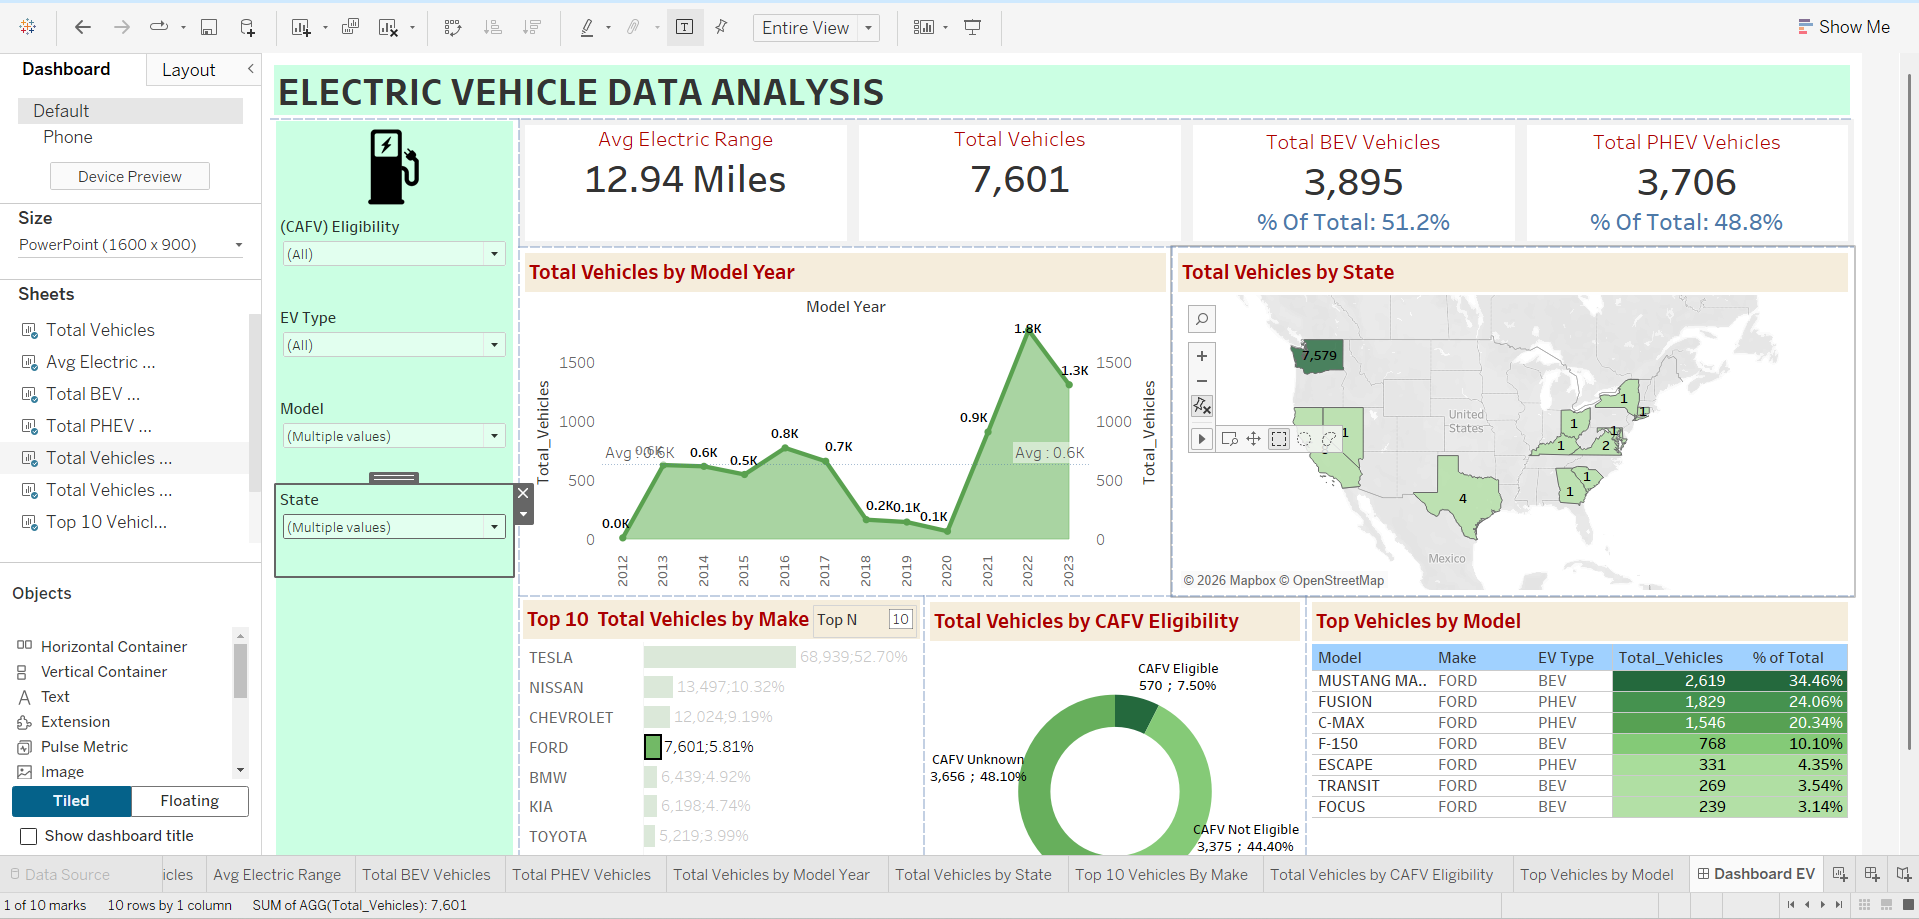

This screenshot's page, from the dashboard's own definition file:
{"tool":"tableau","page":{"name":"Dashboard EV","canvas":[1600,900],"ordinal":0},"visuals":[{"type":"title","box":[8,8,1584,58]},{"type":"worksheet","title":"Avg Electric Range","mark":"Automatic","box":[257,66,334,128]},{"type":"worksheet","title":"Total Vehicles","mark":"Automatic","box":[591,66,334,128]},{"type":"worksheet","title":"Total BEV Vehicles","mark":"Automatic","box":[925,66,334,128]},{"type":"worksheet","title":"Total PHEV Vehicles","mark":"Automatic","box":[1259,66,333,128]},{"type":"image","param":"Image/1287583-200.png","box":[14,68,237,91]},{"type":"filter","title":"Total Vehicles by Model Year","param":"[federated.09yi9530tj2gq91cz5h9o0vqth59].[none:Clean Alternative Fuel Vehicle (C","box":[14,159,237,91]},{"type":"worksheet","title":"Total Vehicles by Model Year","mark":"Area","rows":["Calculation_896779338408804352","Calculation_896779338408804352"],"cols":["Model Year"],"box":[257,194,653,349]},{"type":"worksheet","title":"Total Vehicles by State","mark":"Multipolygon","box":[910,194,682,349]},{"type":"filter","title":"Total Vehicles by Model Year","param":"[federated.09yi9530tj2gq91cz5h9o0vqth59].[none:Electric Vehicle Type:nk]","box":[14,250,237,91]},{"type":"filter","title":"Total Vehicles by Model Year","param":"[federated.09yi9530tj2gq91cz5h9o0vqth59].[none:Model:nk]","box":[14,341,237,91]},{"type":"filter","title":"Total Vehicles by Model Year","param":"[federated.09yi9530tj2gq91cz5h9o0vqth59].[none:State:nk]","box":[14,432,237,91]},{"type":"blank","box":[14,523,237,91]},{"type":"worksheet","title":"Top 10 Vehicles By Make","mark":"Automatic","rows":["Make"],"cols":["Calculation_896779338408804352"],"box":[257,543,405,349]},{"type":"worksheet","title":"Total Vehicles by CAFV Eligibility","mark":"Pie","rows":["Calculation_896779338466979850","Calculation_896779338466979850"],"box":[662,543,382,349]},{"type":"worksheet","title":"Top Vehicles by Model","mark":"Square","rows":["Model","Make","Electric Vehicle Type"],"box":[1044,543,548,349]},{"type":"parameter","param":"[Parameters].[Parameter 2]","box":[551,552,104,33]},{"type":"blank","box":[14,614,237,91]},{"type":"blank","box":[14,705,237,91]},{"type":"blank","box":[14,796,237,90]}]}

Visuals, with their boxes on the page's 1600x900 design canvas (x1, y1, x2, y2). These are canvas units, not pixel positions in the 1919x919 screenshot, which may show the page scaled, cropped or inside an application window:
title: rect(8, 8, 1592, 66)
"Avg Electric Range" worksheet: rect(257, 66, 591, 194)
"Total Vehicles" worksheet: rect(591, 66, 925, 194)
"Total BEV Vehicles" worksheet: rect(925, 66, 1259, 194)
"Total PHEV Vehicles" worksheet: rect(1259, 66, 1592, 194)
image: rect(14, 68, 251, 159)
"Total Vehicles by Model Year" filter: rect(14, 159, 251, 250)
"Total Vehicles by Model Year" worksheet (Area marks): rect(257, 194, 910, 543)
"Total Vehicles by State" worksheet (Multipolygon marks): rect(910, 194, 1592, 543)
"Total Vehicles by Model Year" filter: rect(14, 250, 251, 341)
"Total Vehicles by Model Year" filter: rect(14, 341, 251, 432)
"Total Vehicles by Model Year" filter: rect(14, 432, 251, 523)
blank: rect(14, 523, 251, 614)
"Top 10 Vehicles By Make" worksheet: rect(257, 543, 662, 892)
"Total Vehicles by CAFV Eligibility" worksheet (Pie marks): rect(662, 543, 1044, 892)
"Top Vehicles by Model" worksheet (Square marks): rect(1044, 543, 1592, 892)
parameter: rect(551, 552, 655, 585)
blank: rect(14, 614, 251, 705)
blank: rect(14, 705, 251, 796)
blank: rect(14, 796, 251, 886)
